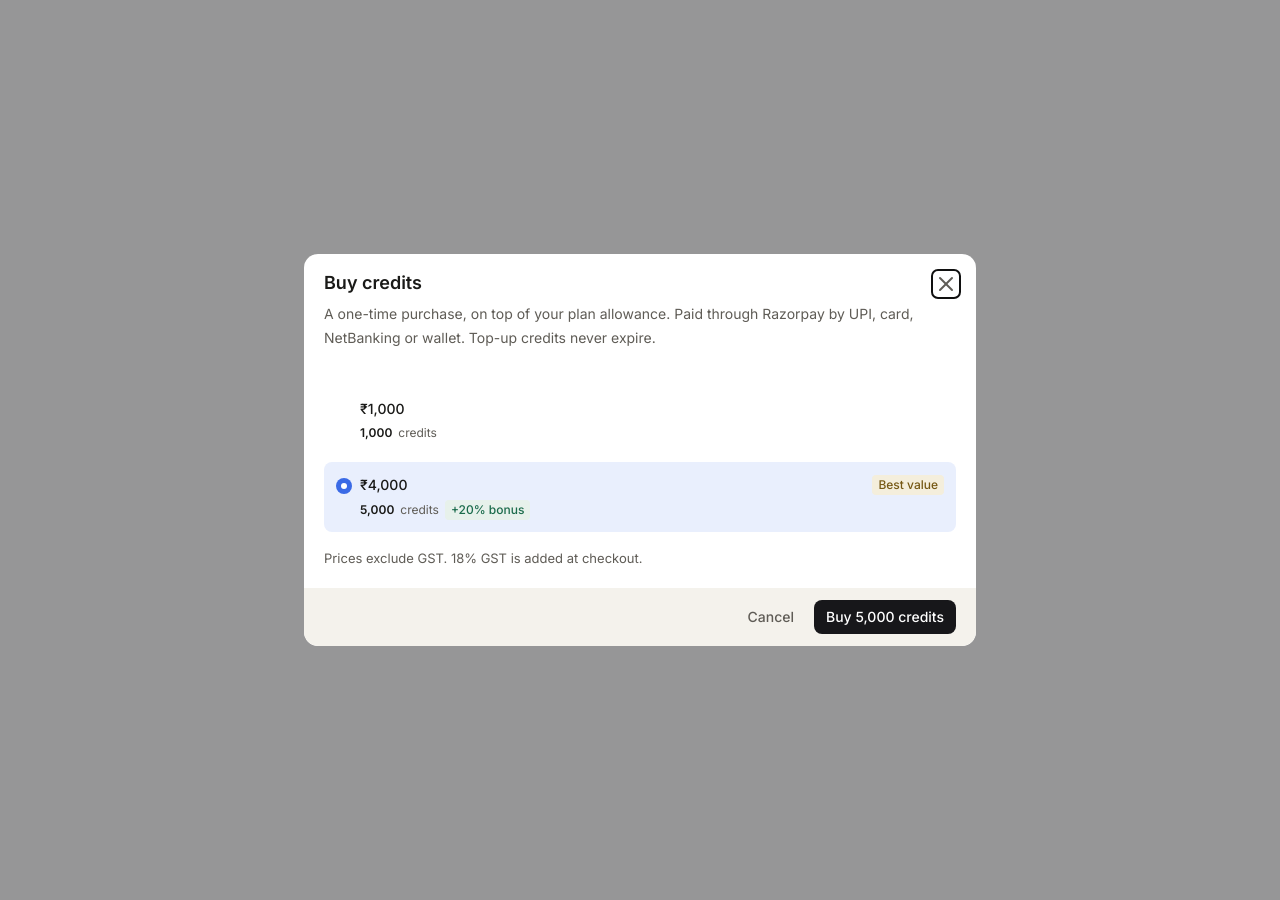
Test: outcomes › says the customer was not charged when they close the payment sheet
Click the radio button labelled "₹1,000" at (382, 408), box [324, 386, 956, 454]
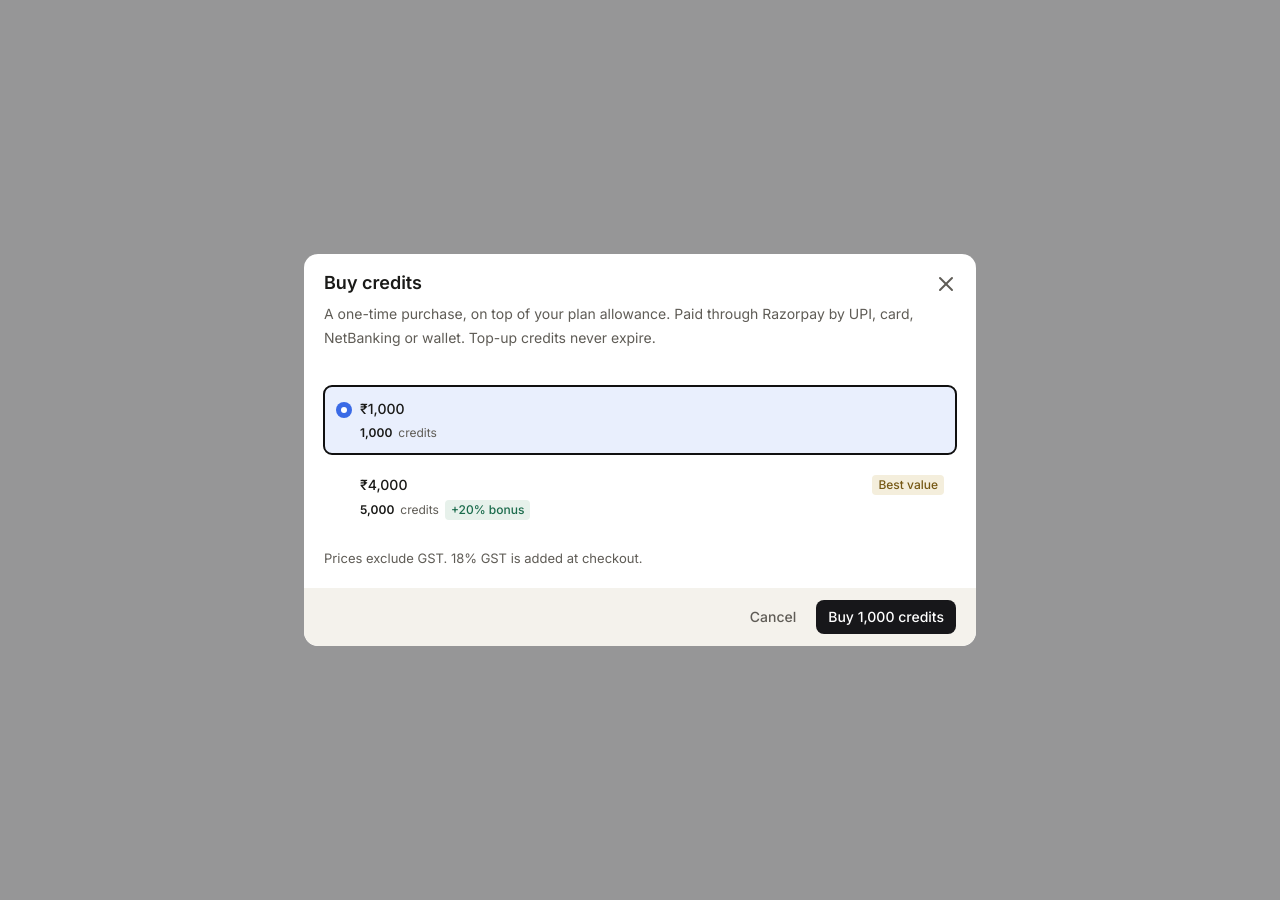
Click the button "Buy 1,000 credits" at (886, 617), box [816, 600, 956, 634]
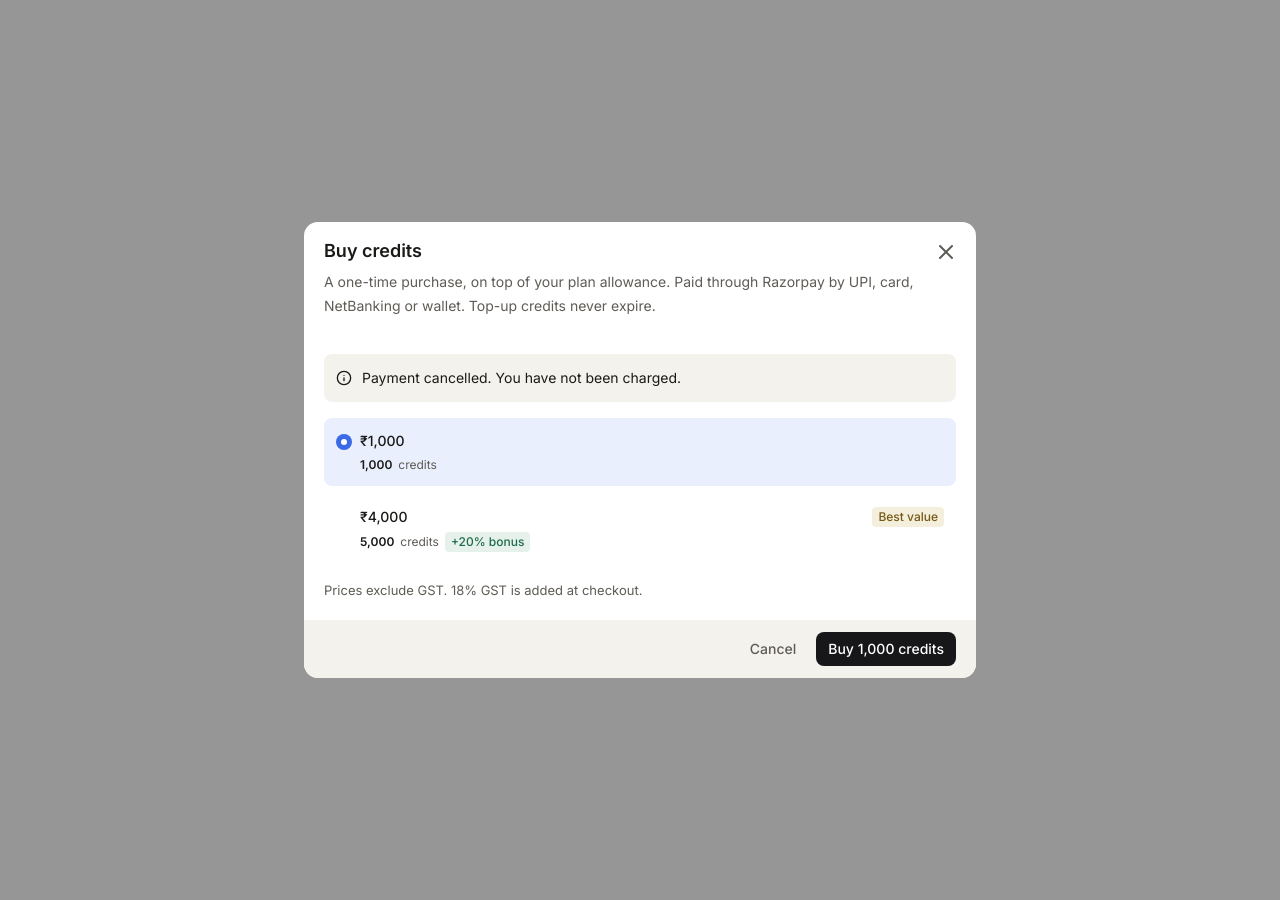
Result: the text "Payment cancelled. You have not been charged." is shown at [362, 369, 681, 386]
